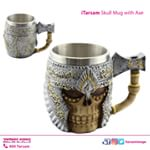cups: (40, 41, 150, 134), (1, 11, 56, 59)
